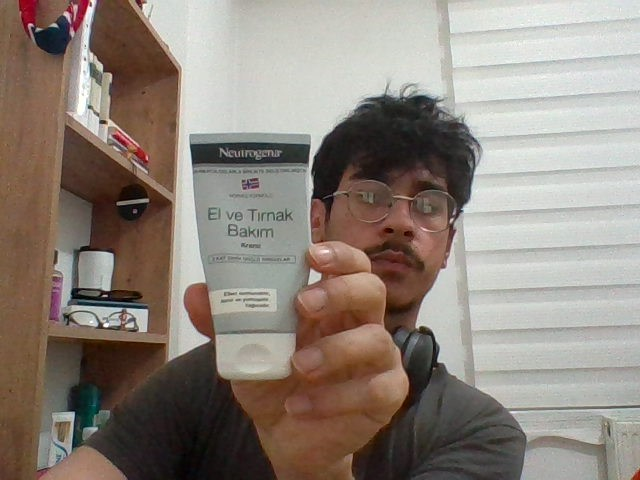Neutrogena: (189, 133, 312, 381)
